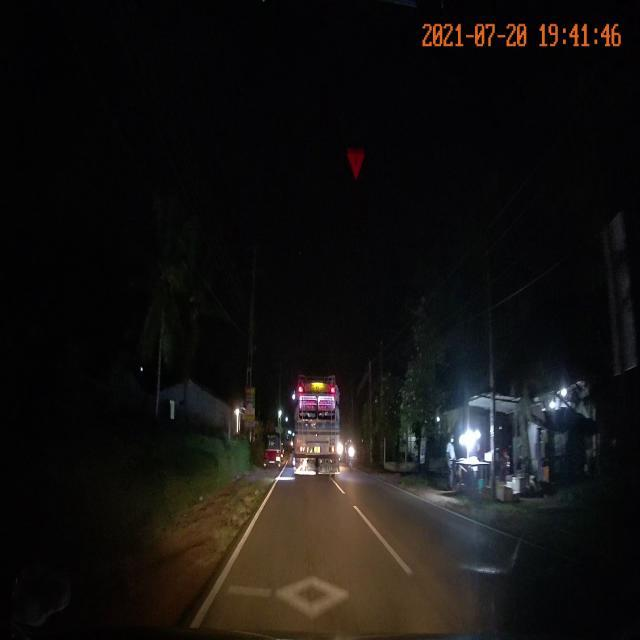diamond: (195, 568, 440, 619)
